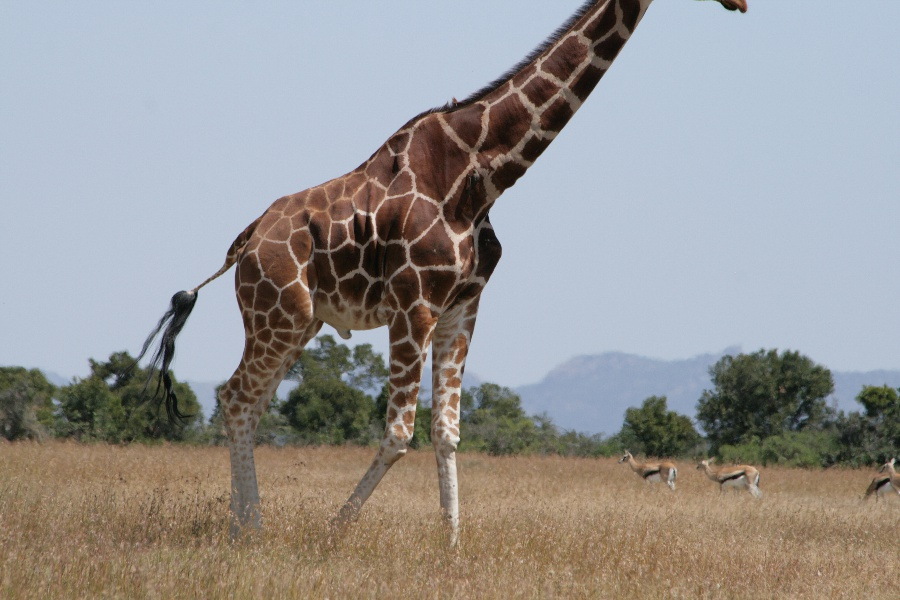giraffe: (197, 0, 658, 543)
